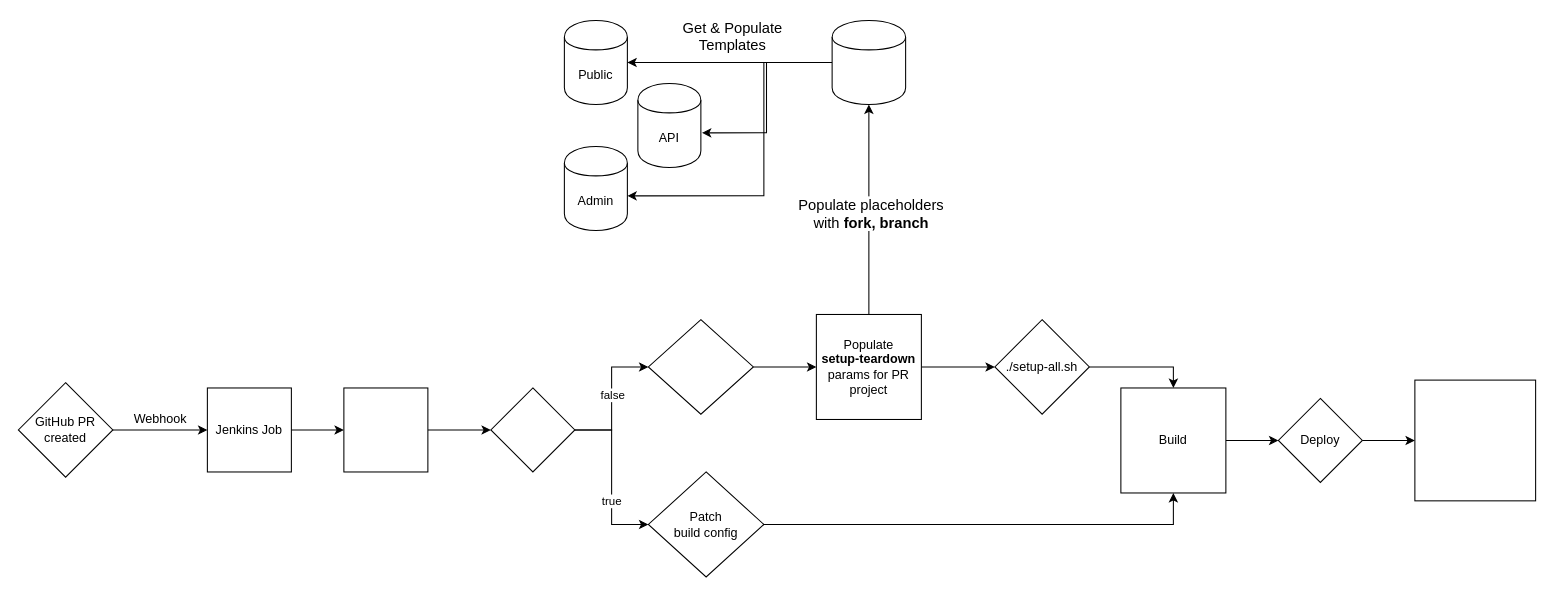
The diagram is 1554 pixels wide and 595 high, and some of its shapes have lost their labels. Here are the shapes that lost their labels. From the top down, the box of each, then its label:
(831, 19, 906, 104): Helper pods
(647, 319, 753, 414): Create Full deployment
(343, 387, 428, 472): SonarQube scan
(490, 387, 575, 472): Deploy exists?
(1414, 379, 1536, 501): Deployment (prefix = branch name)
